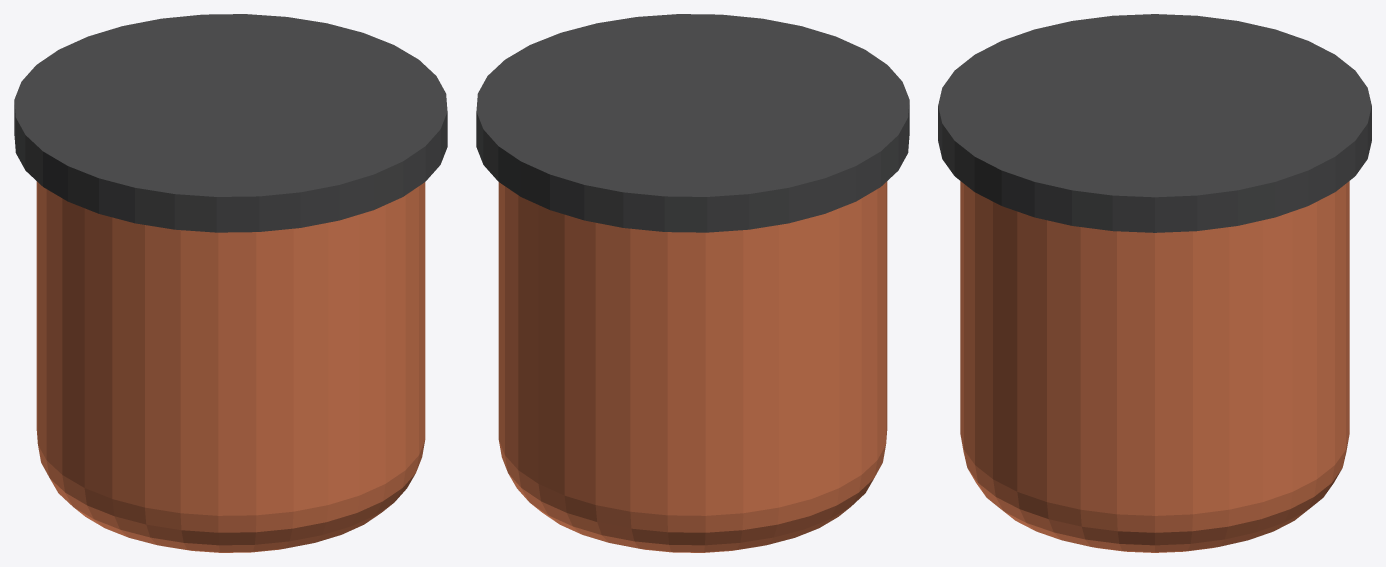
The model's file is frasco (2).fbx.
3 views of the same model, side by side, from view 1: azimuth 30°, elevation 25°; view 2: azimuth 150°, elevation 25°; view 3: azimuth 270°, elevation 25° (orthographic).
Visible parts, largest first — view 1: Cylinder; view 2: Cylinder; view 3: Cylinder.
Boxes of the visible parts, x1,y1,x2,y2 form: Cylinder: [14, 14, 447, 552]; Cylinder: [476, 14, 909, 552]; Cylinder: [938, 14, 1371, 552].
Bounding box in the file's own units: 230 × 226 × 230.
